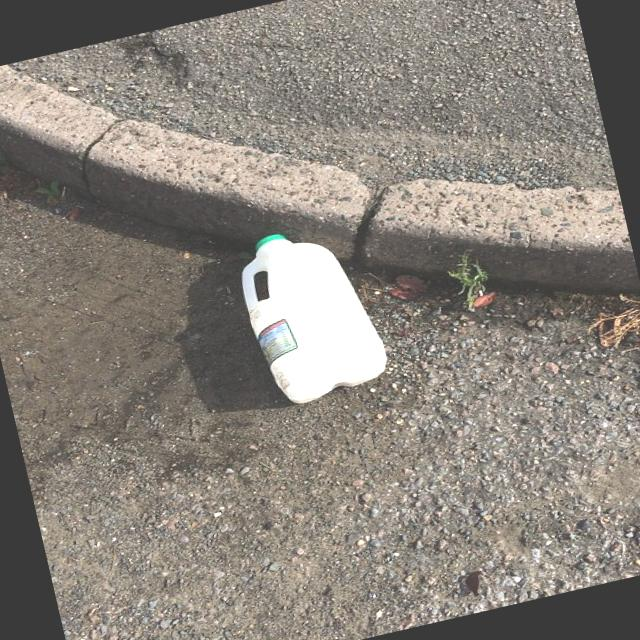Recycle: (232, 214, 396, 412)
